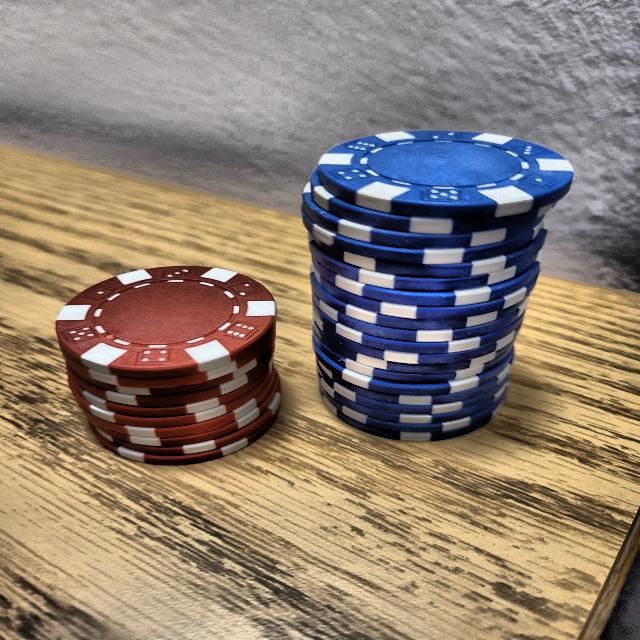Chip: (281, 121, 591, 460), (47, 235, 289, 497)
